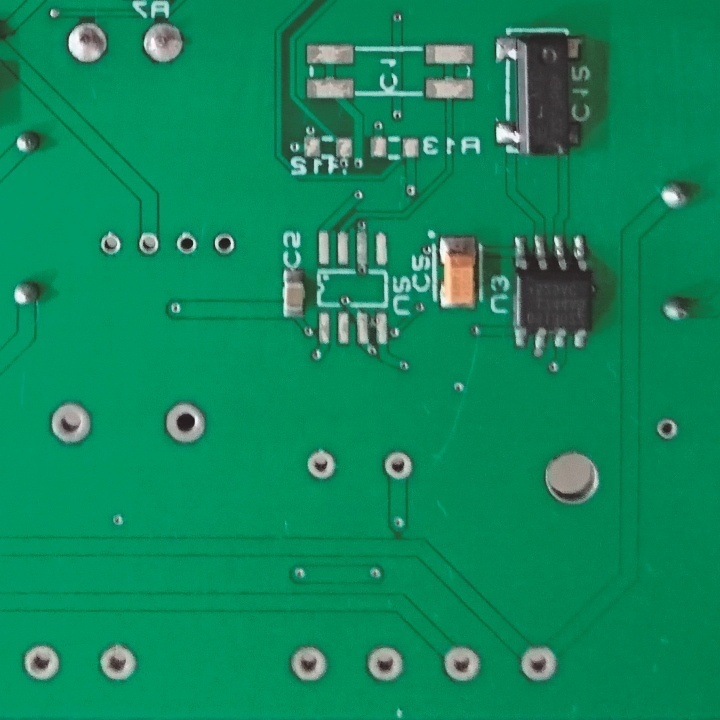F: (45, 401, 93, 449), (164, 399, 208, 449), (63, 22, 111, 66), (141, 22, 186, 66), (21, 642, 64, 685), (97, 641, 137, 687), (441, 643, 482, 686), (286, 645, 328, 685), (519, 644, 559, 685), (365, 645, 405, 681), (382, 448, 416, 480), (307, 449, 338, 481), (97, 230, 125, 257), (173, 230, 201, 256), (137, 229, 161, 257), (656, 416, 680, 443), (210, 231, 236, 255)
